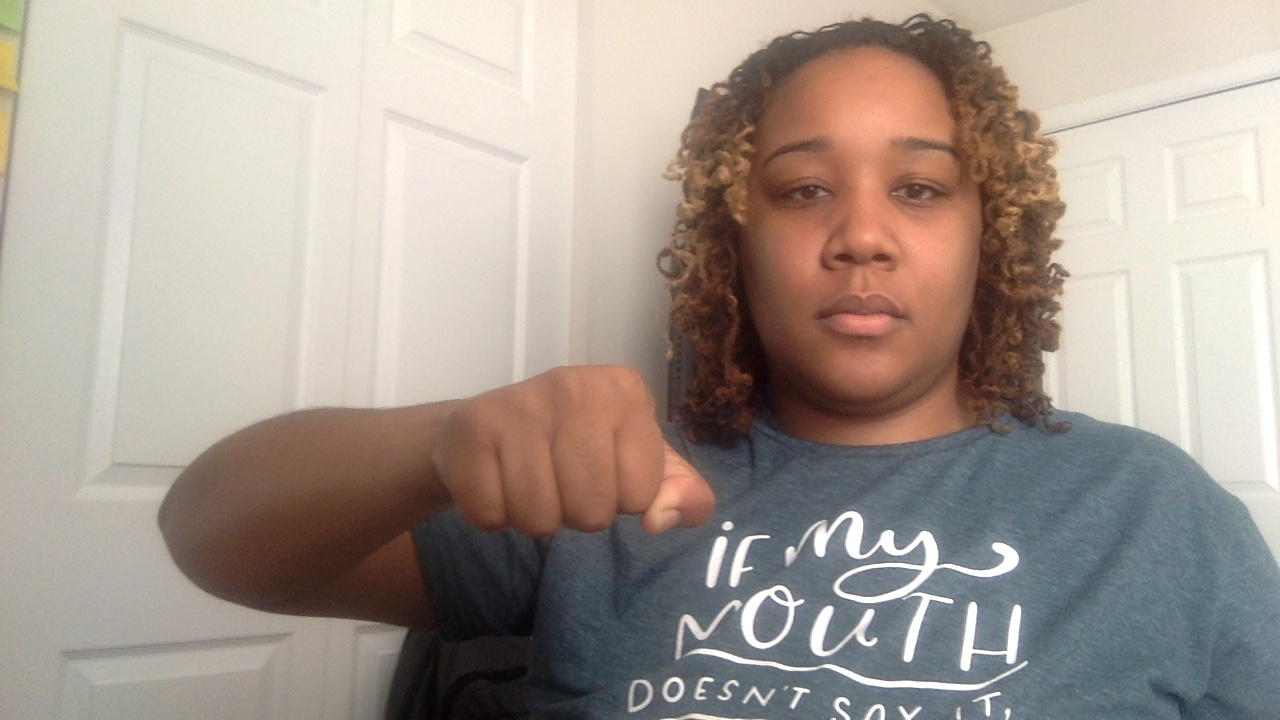yes: (406, 340, 735, 597)
